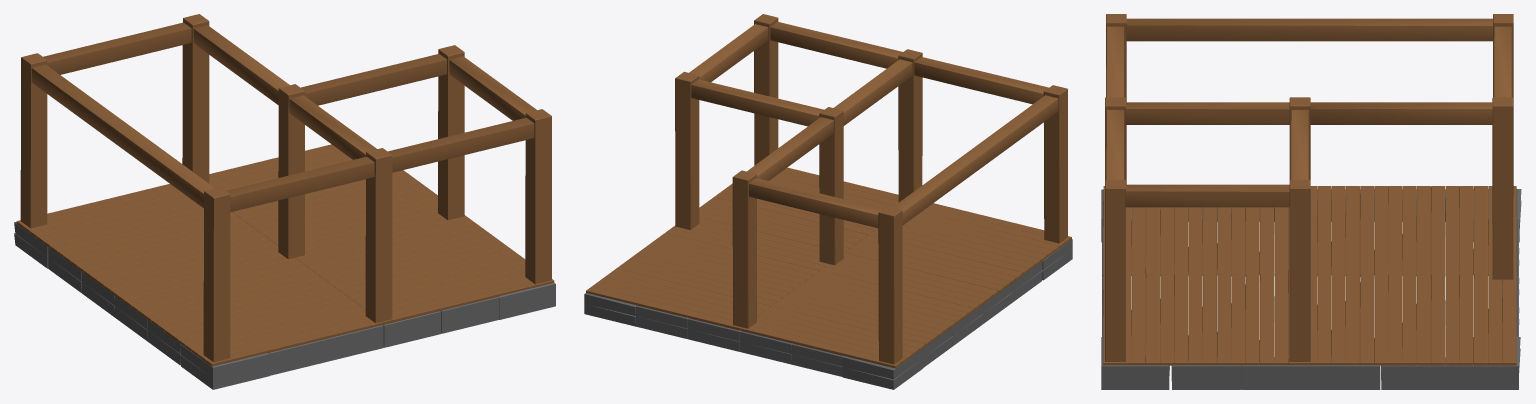
The model's file is SM_Herbalist_Construction.fbx.
3 renders of one model, left to right at view 1: azimuth 30°, elevation 25°; view 2: azimuth 150°, elevation 25°; view 3: azimuth 270°, elevation 25°, orthographic. The views are drawn at different scales.
Visible parts, largest first — view 1: SM_Herbalist_Construction; view 2: SM_Herbalist_Construction; view 3: SM_Herbalist_Construction.
Part boxes in pixels (x1=…): SM_Herbalist_Construction: x1=14, y1=14, x2=555, y2=389; SM_Herbalist_Construction: x1=584, y1=14, x2=1072, y2=389; SM_Herbalist_Construction: x1=1101, y1=14, x2=1521, y2=389.
Size of what is drawn, in the model's own units: 602 by 603 by 318.
